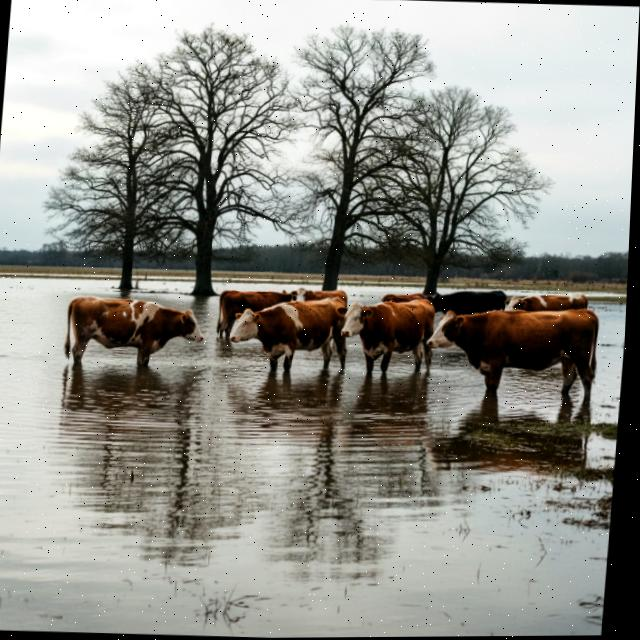cow: (420, 299, 608, 428), (52, 283, 211, 376), (221, 290, 360, 384), (324, 289, 441, 386), (210, 279, 299, 339), (500, 286, 595, 326), (426, 286, 510, 324), (288, 278, 352, 326), (378, 285, 434, 316)
